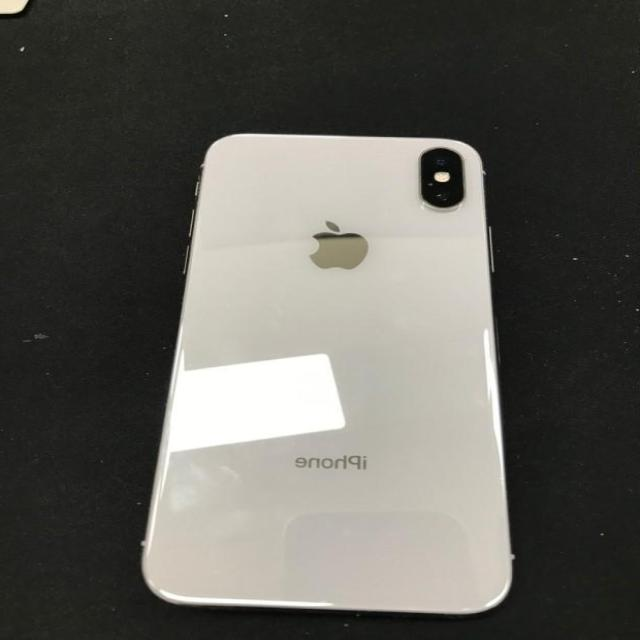mobile: (136, 130, 518, 622)
